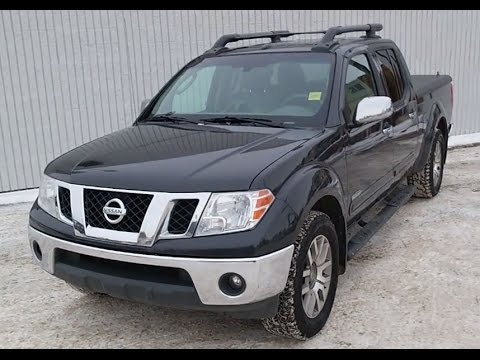pickup: (26, 27, 453, 342)
